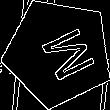M_SW: (25, 20, 92, 85)
